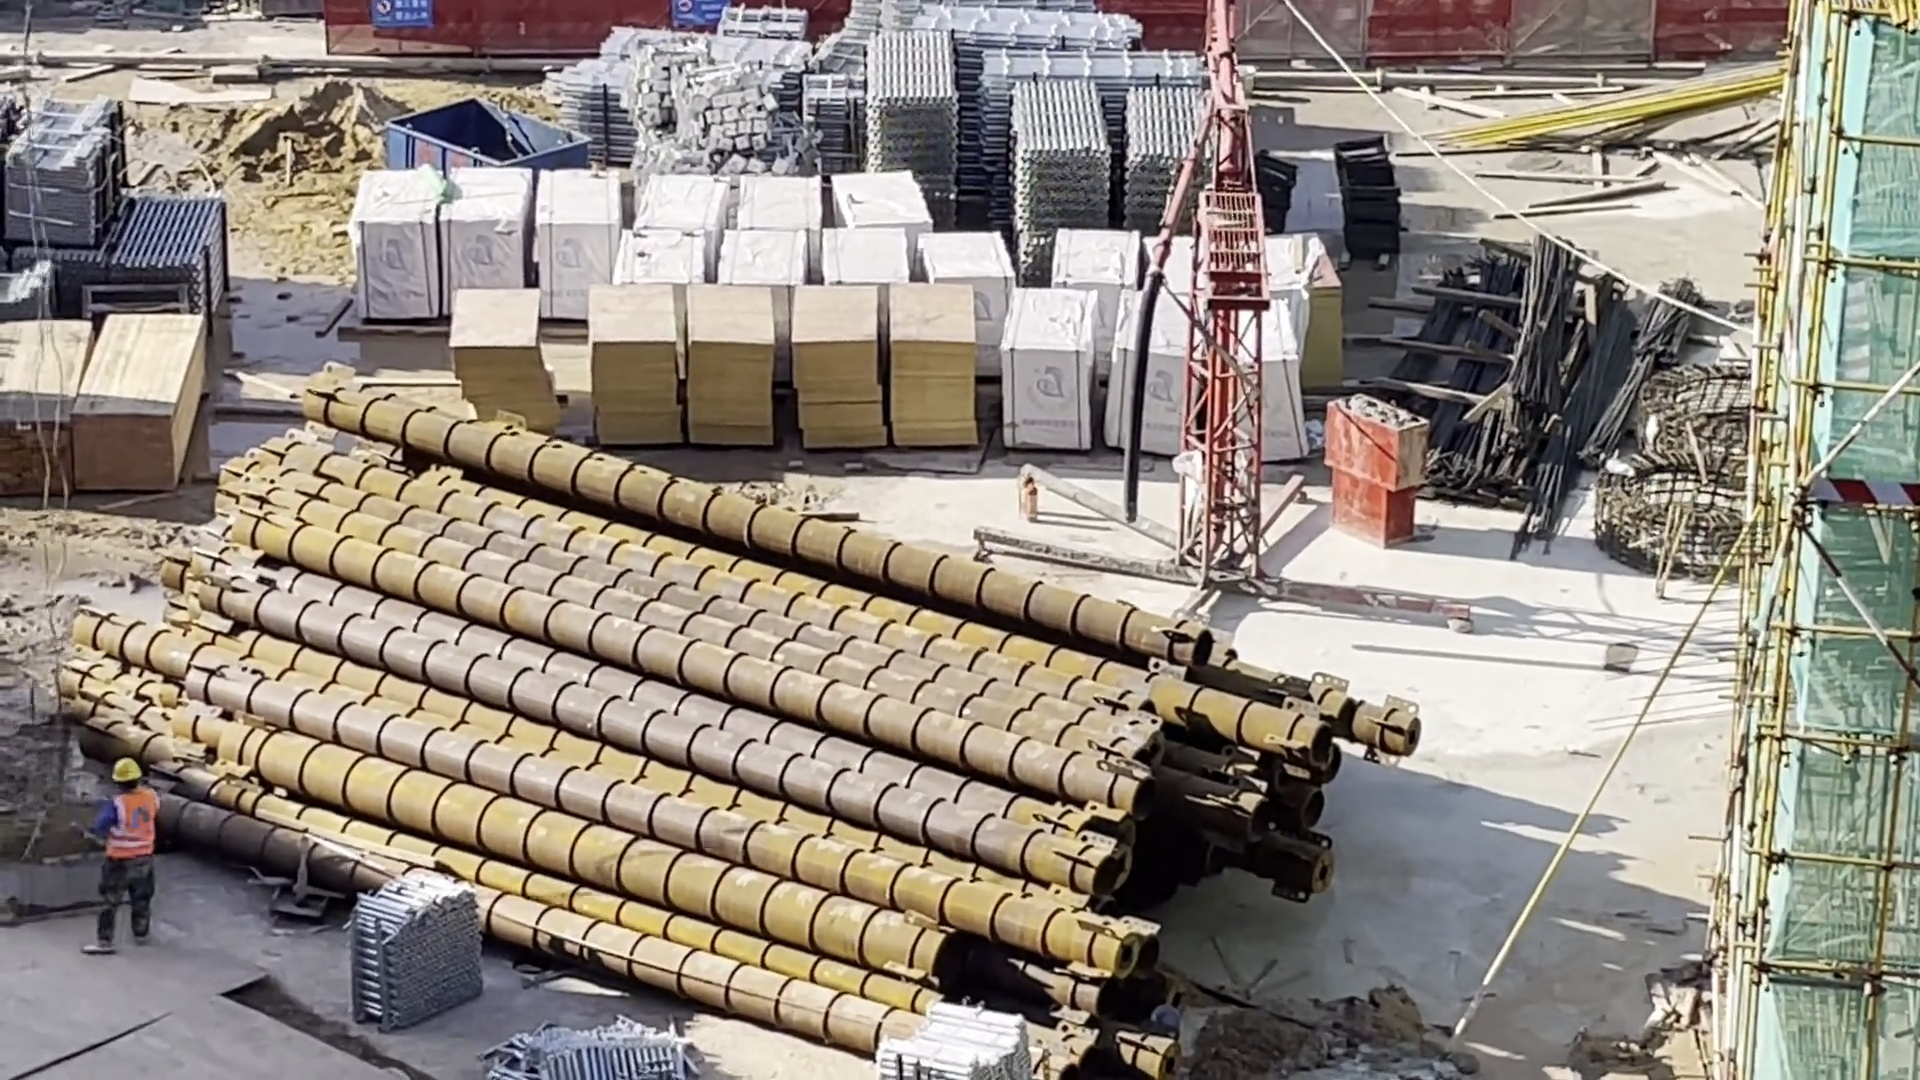board: (429, 276, 573, 442), (573, 257, 689, 452), (784, 260, 892, 457), (884, 257, 984, 467), (680, 252, 775, 458)
helmet: (103, 753, 149, 790)
hopper: (372, 86, 606, 180)
person: (74, 745, 185, 965)
scaffold: (331, 856, 485, 1032), (859, 20, 973, 223), (1004, 68, 1114, 269), (107, 190, 236, 321), (1121, 72, 1214, 240), (866, 999, 1047, 1080)
vest: (88, 790, 166, 865)
